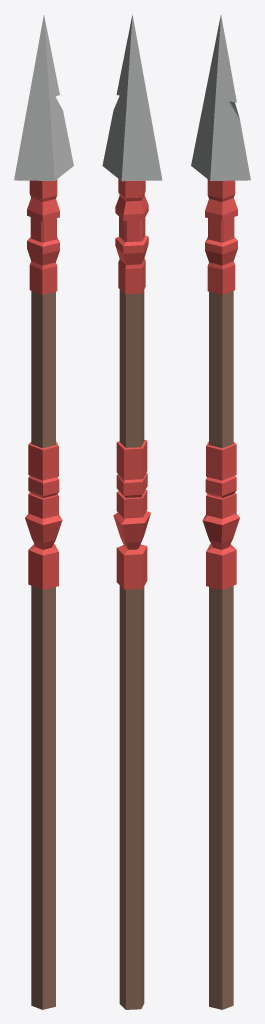
Rendered from spear-type-01.obj.
3 renders of one model, left to right at view 1: azimuth 30°, elevation 25°; view 2: azimuth 150°, elevation 25°; view 3: azimuth 330°, elevation 25°, orthographic.
Parts seen in each view (by area): view 1: spear-type-01; view 2: spear-type-01; view 3: spear-type-01.
Boxes of the visible parts, box(x1,y1,x2,y2) form: spear-type-01: box(14, 15, 73, 1009); spear-type-01: box(102, 14, 162, 1009); spear-type-01: box(191, 15, 250, 1009).
Size of the model in its own units: 0.0791 by 1.25 by 0.0496.
